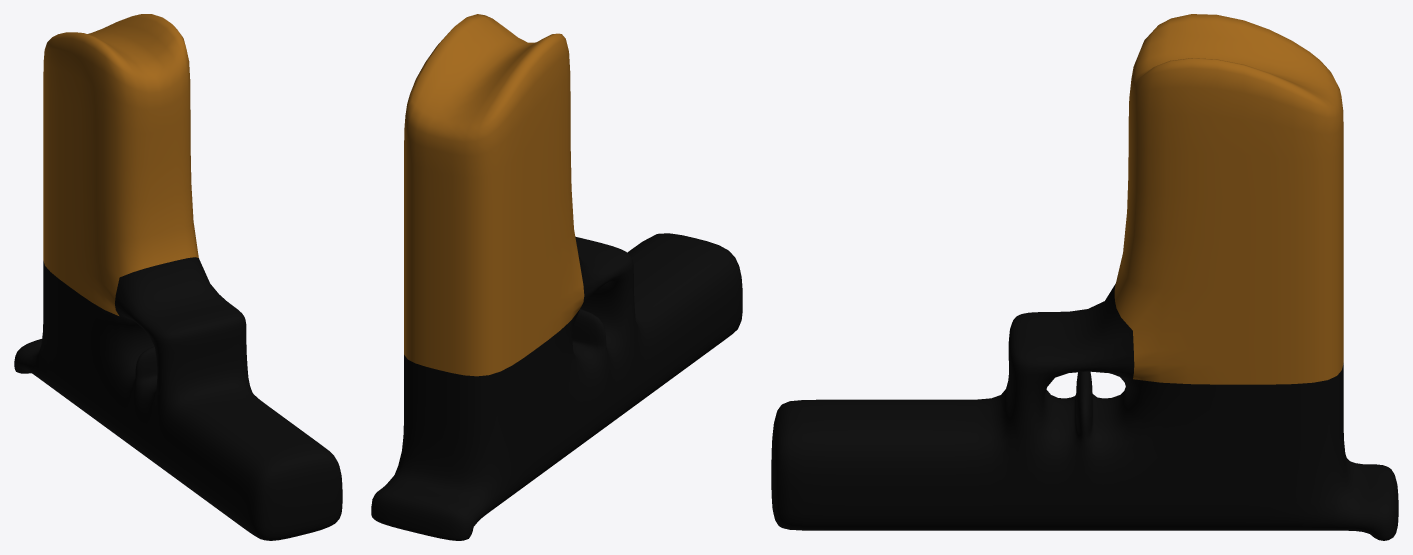
The model's file is Gun and Bullet.fbx.
3 views of the same model, side by side, from view 1: azimuth 30°, elevation 25°; view 2: azimuth 150°, elevation 25°; view 3: azimuth 270°, elevation 25° (orthographic). The views are drawn at different scales.
Parts seen in each view (by area): view 1: Gun; view 2: Gun; view 3: Gun.
Boxes of the visible parts, x1=… form: Gun: x1=14, y1=14, x2=342, y2=540; Gun: x1=371, y1=14, x2=742, y2=540; Gun: x1=771, y1=14, x2=1398, y2=540.
Size of the model in its own units: 55.81 by 229 by 271.
